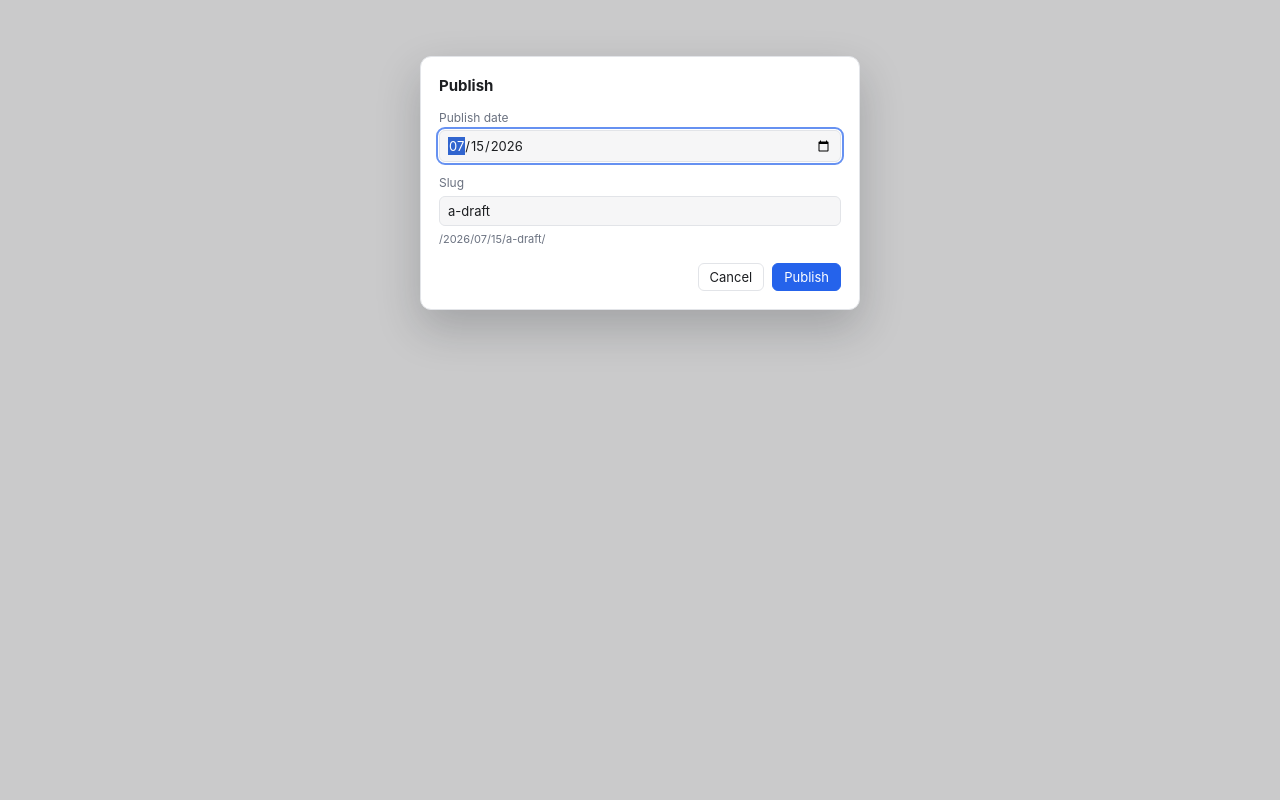
PublishDialog — live URL preview › updates the preview as the slug field changes
Replace the text in the field labelled "Slug" with "renamed-post" at (640, 210), box top-left (439, 196), bottom-right (841, 226)
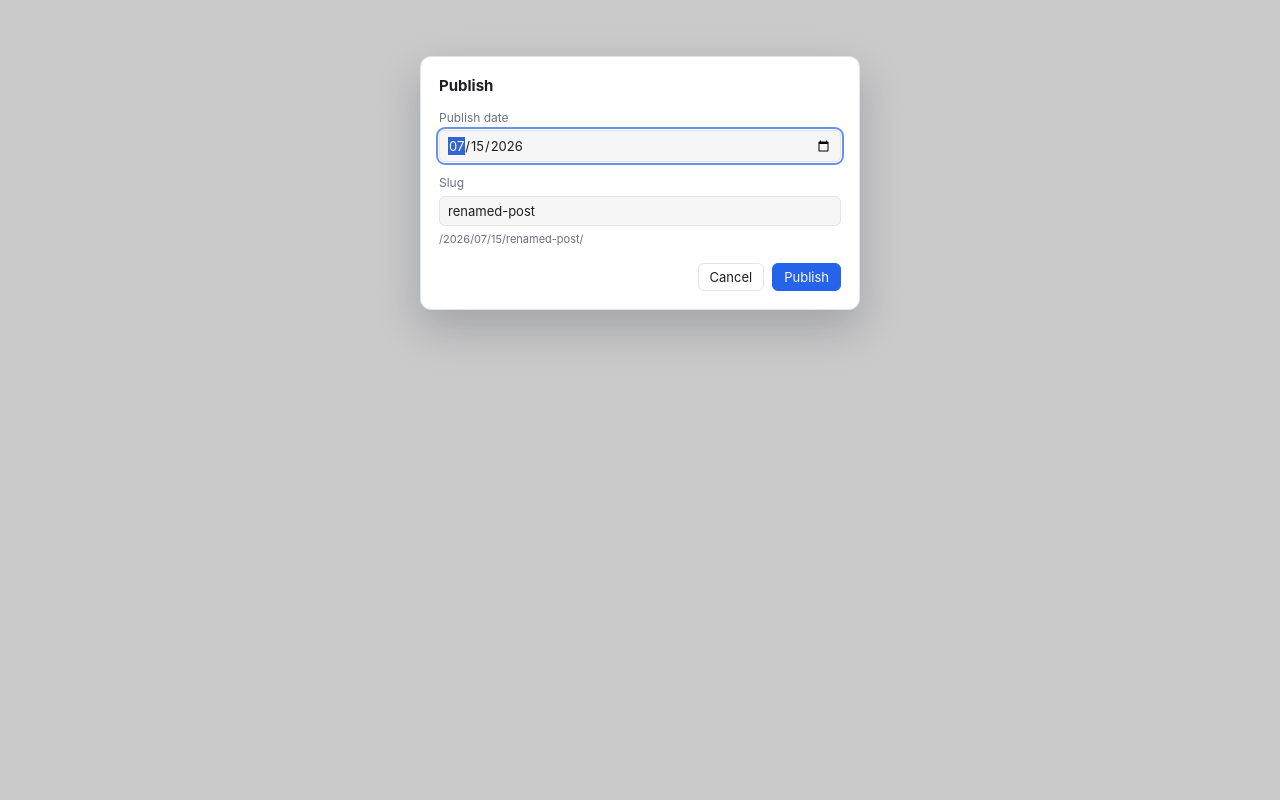
Expected: the text "/2026/07/15/renamed-post/" is shown, top-left (439, 232), bottom-right (584, 246)
